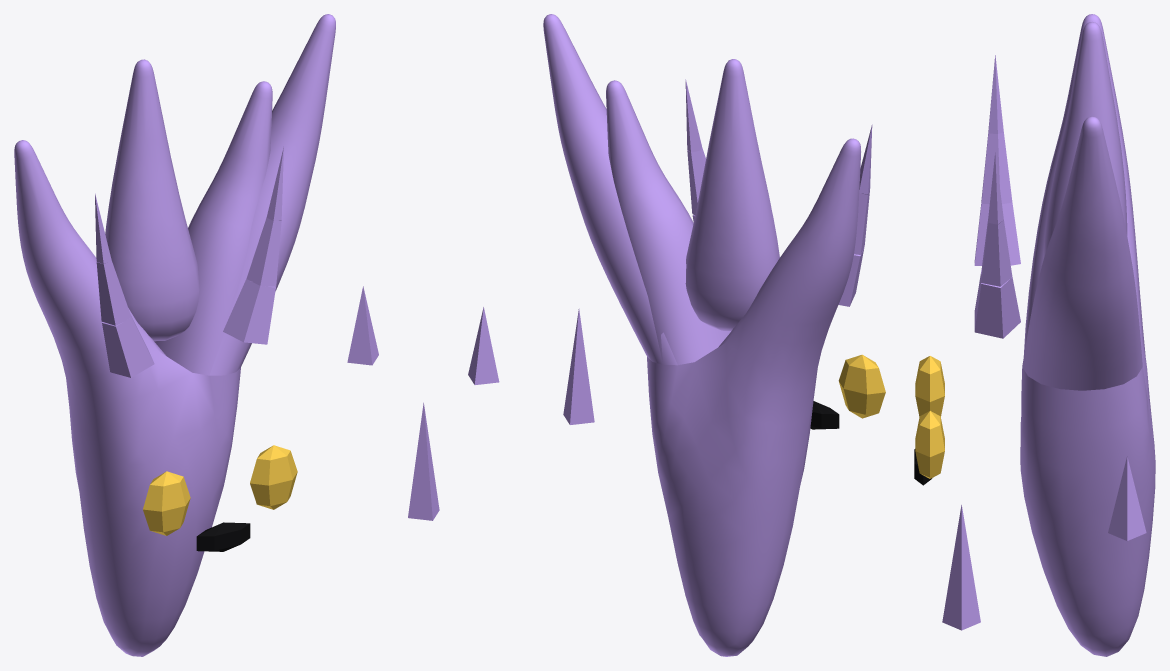
Rendered from mon_spir_01.glb.
3 renders of one model, left to right at view 1: azimuth 30°, elevation 25°; view 2: azimuth 150°, elevation 25°; view 3: azimuth 270°, elevation 25°, orthographic. The views are drawn at different scales.
Visible parts, largest first — view 1: mon_spir_01; view 2: mon_spir_01; view 3: mon_spir_01.
Boxes of the visible parts, left/top/right/bottom form: mon_spir_01: left=14, top=14, right=439, bottom=656; mon_spir_01: left=468, top=14, right=885, bottom=656; mon_spir_01: left=914, top=14, right=1155, bottom=656.
Size of the model in its own units: 0.5021 by 0.7576 by 0.2619.
Materials: 4 (4 with a texture image).
